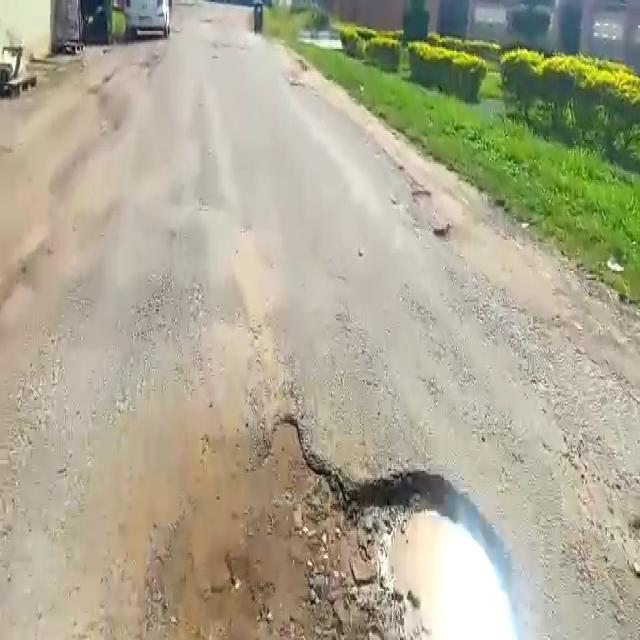Pothole: (149, 413, 526, 640)
